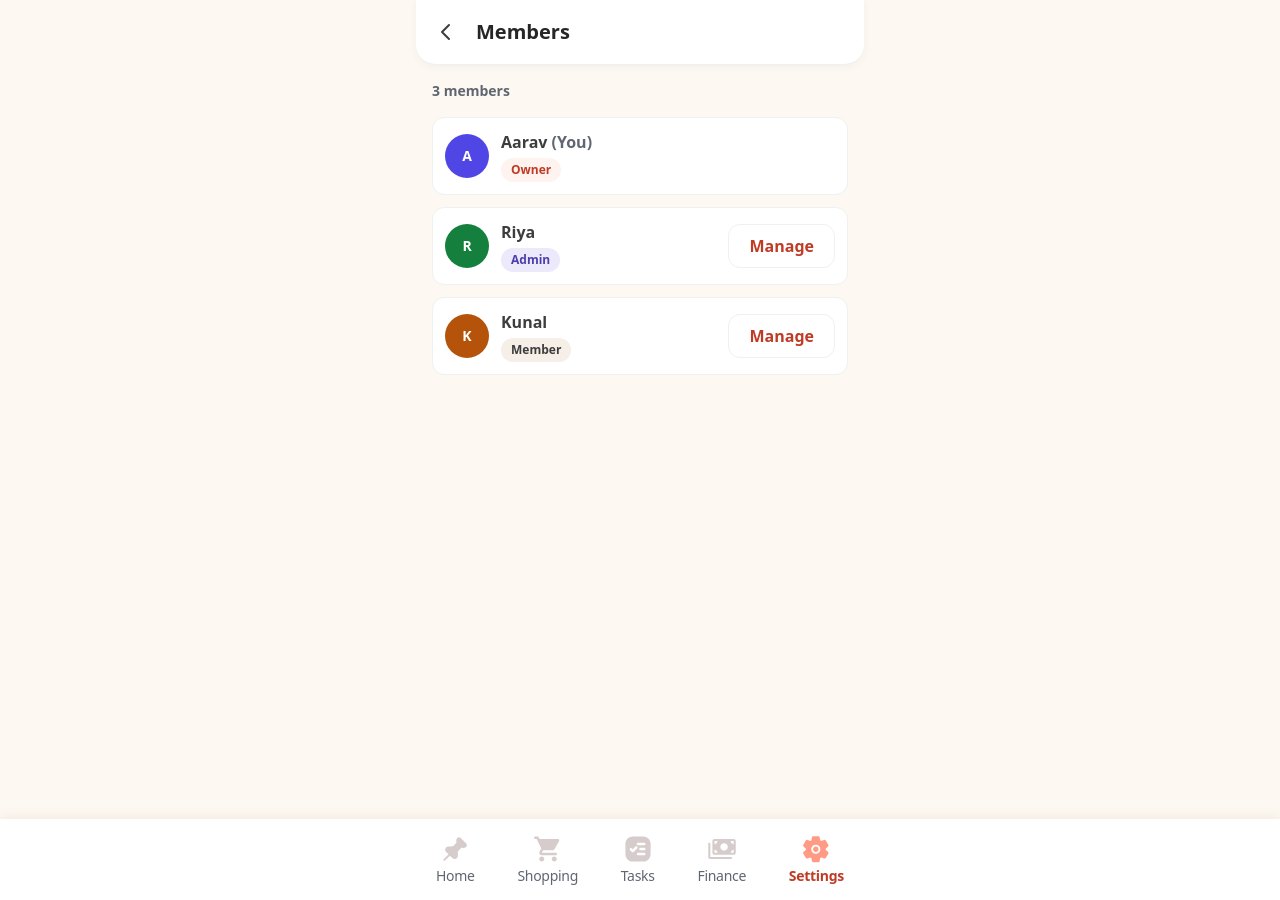
Test: members list › has a back button to the You tab
This screenshot has width=1280, height=900.
Step 1. Click the button named "Back" → (446, 32), box [424, 10, 468, 54]
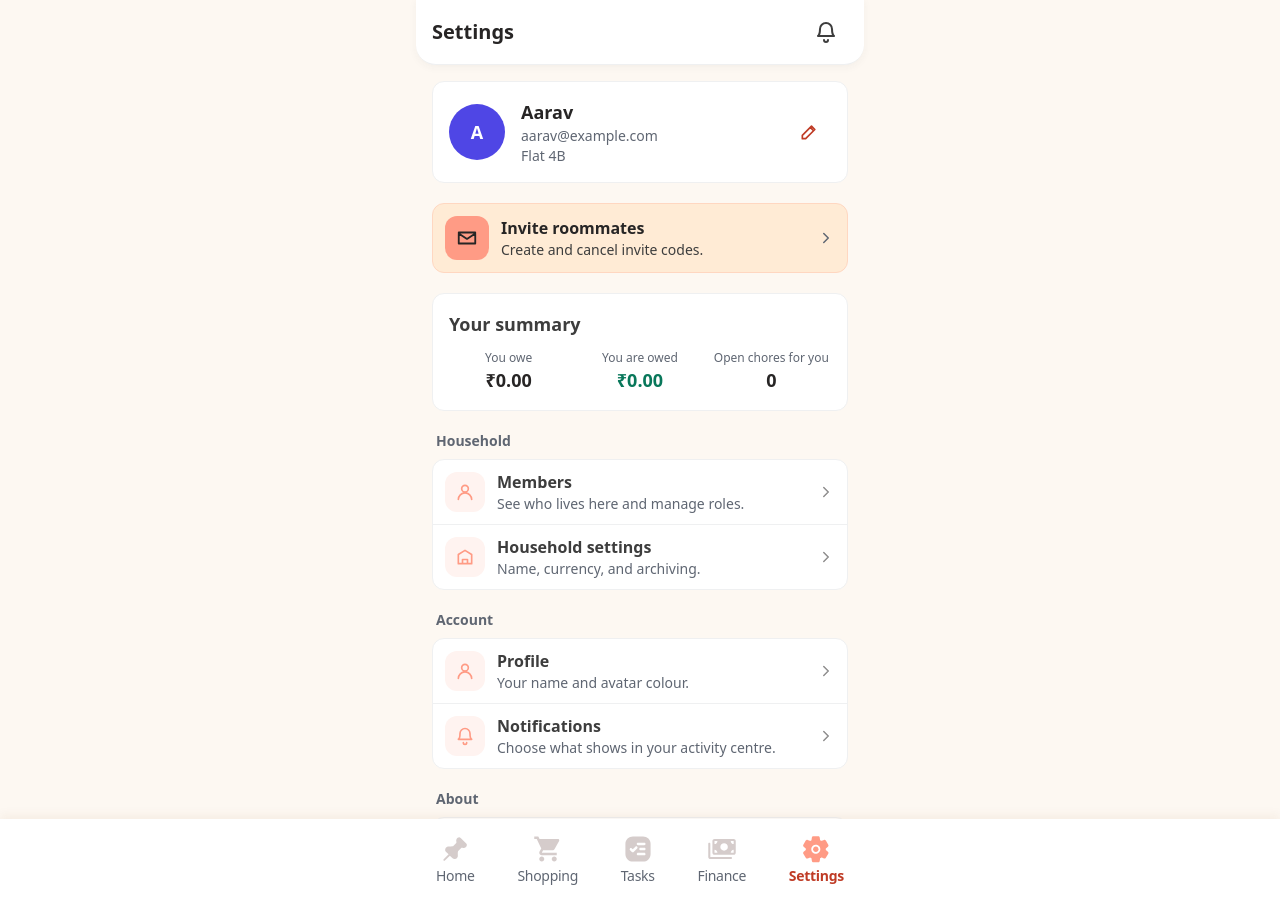
Now the element named "Signed in as" is shown, box [432, 81, 848, 183]
